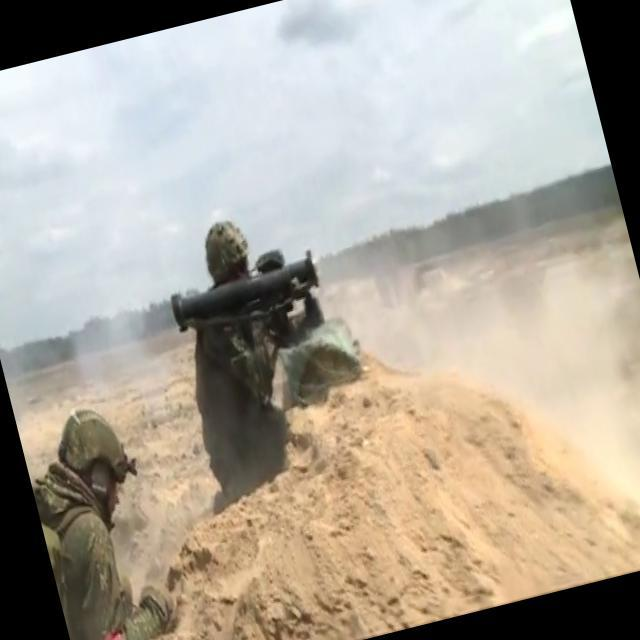rocket: (164, 240, 328, 338)
